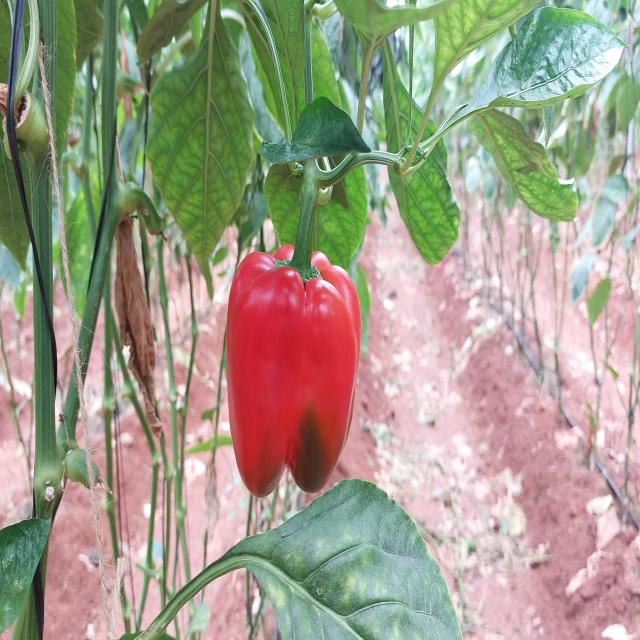Red-Ready-to-Harvest: (227, 236, 361, 511)
